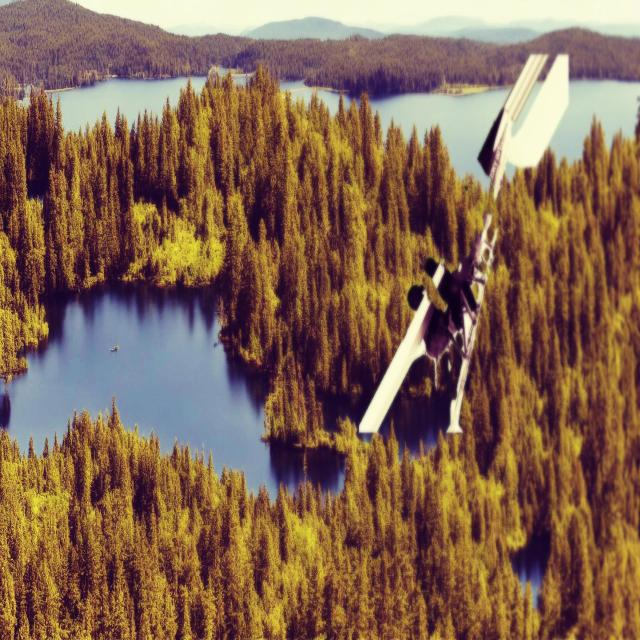airplane: (358, 54, 568, 431)
